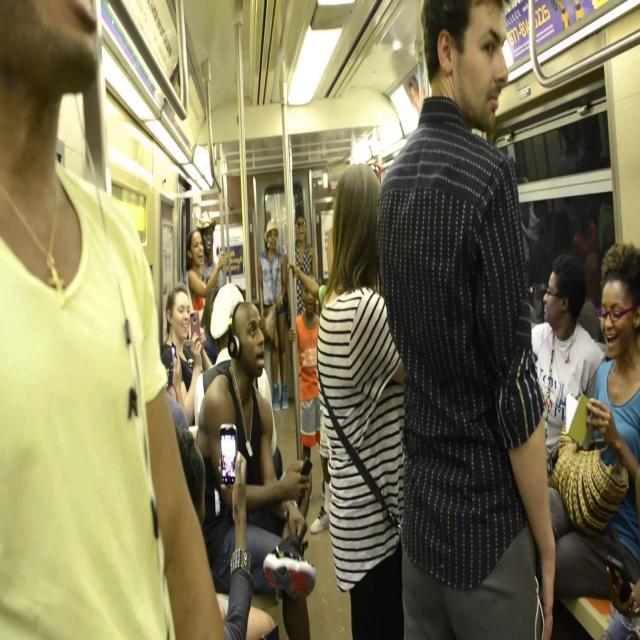body: (0, 0, 227, 639), (371, 0, 564, 639), (314, 159, 412, 639), (194, 300, 318, 640), (508, 111, 614, 304), (194, 282, 284, 486), (530, 253, 607, 491), (529, 252, 606, 464), (288, 270, 327, 500), (160, 278, 215, 428), (256, 219, 290, 412), (226, 452, 256, 640), (600, 516, 640, 640), (185, 228, 228, 340), (286, 209, 316, 327), (310, 422, 333, 536), (195, 210, 225, 296), (288, 267, 331, 309), (255, 604, 282, 640), (325, 217, 335, 267)
